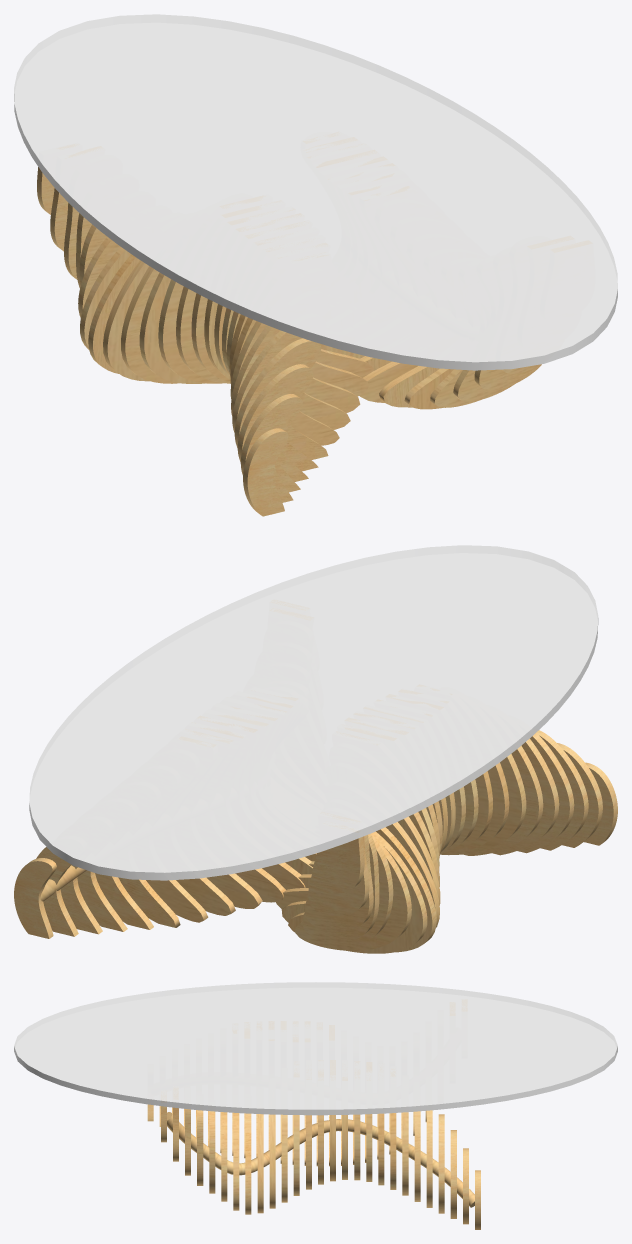
Rendered from Parametric_Snakes_Table.fbx.
3 renders of one model, top to bottom at view 1: azimuth 30°, elevation 25°; view 2: azimuth 150°, elevation 25°; view 3: azimuth 270°, elevation 25°, orthographic. The views are drawn at different scales.
Parts seen in each view (by area): view 1: Table Glass, Table; view 2: Table Glass, Table; view 3: Table Glass, Table.
Boxes of the visible parts, x1,y1,x2,y2 form: Table Glass: [14, 14, 617, 370]; Table: [37, 167, 541, 516]; Table Glass: [29, 545, 598, 880]; Table: [14, 730, 617, 953]; Table Glass: [14, 982, 617, 1115]; Table: [147, 1104, 480, 1229].
Bounding box in the file's own units: 1 × 2 × 0.4616.
2 materials, 1 textured.
